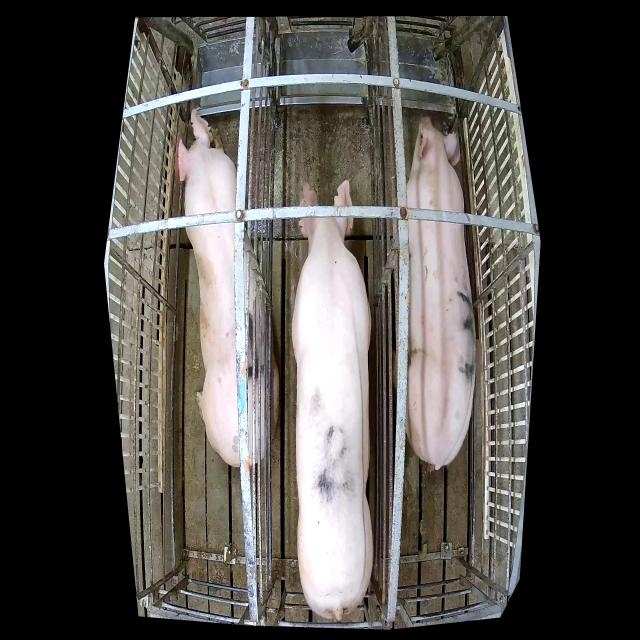pig: (174, 107, 279, 467), (292, 177, 374, 621), (406, 114, 476, 468)
